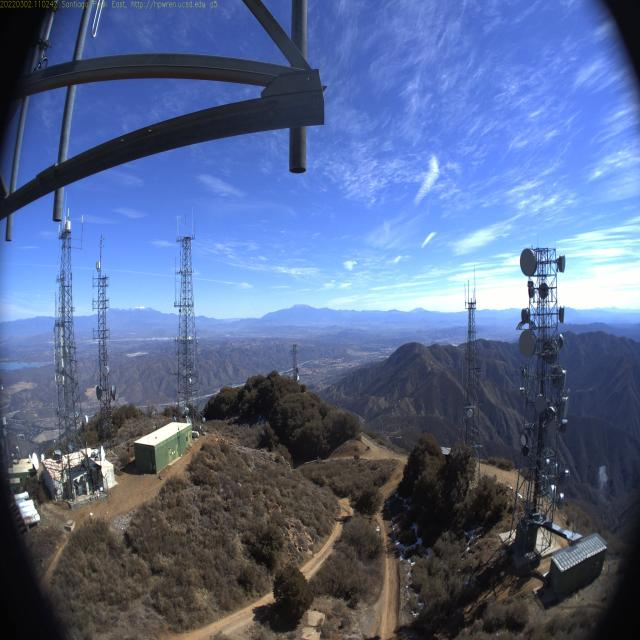smoke: (598, 463, 608, 499)
